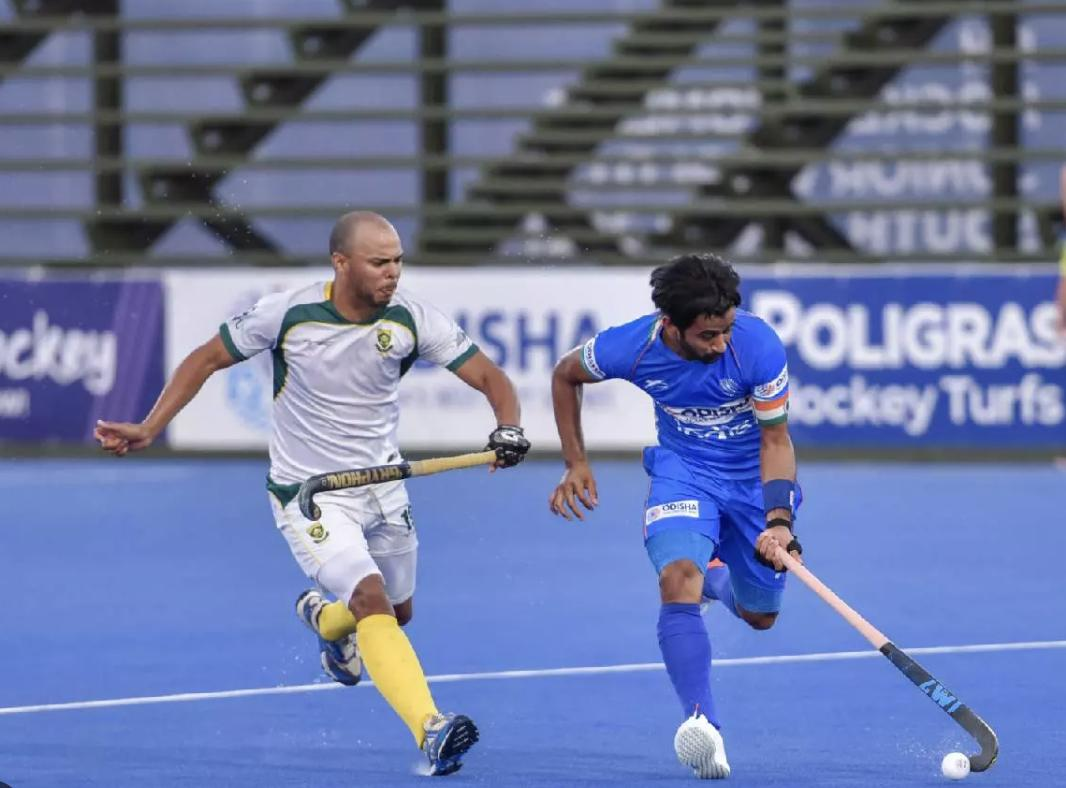ball: (941, 744, 983, 780)
